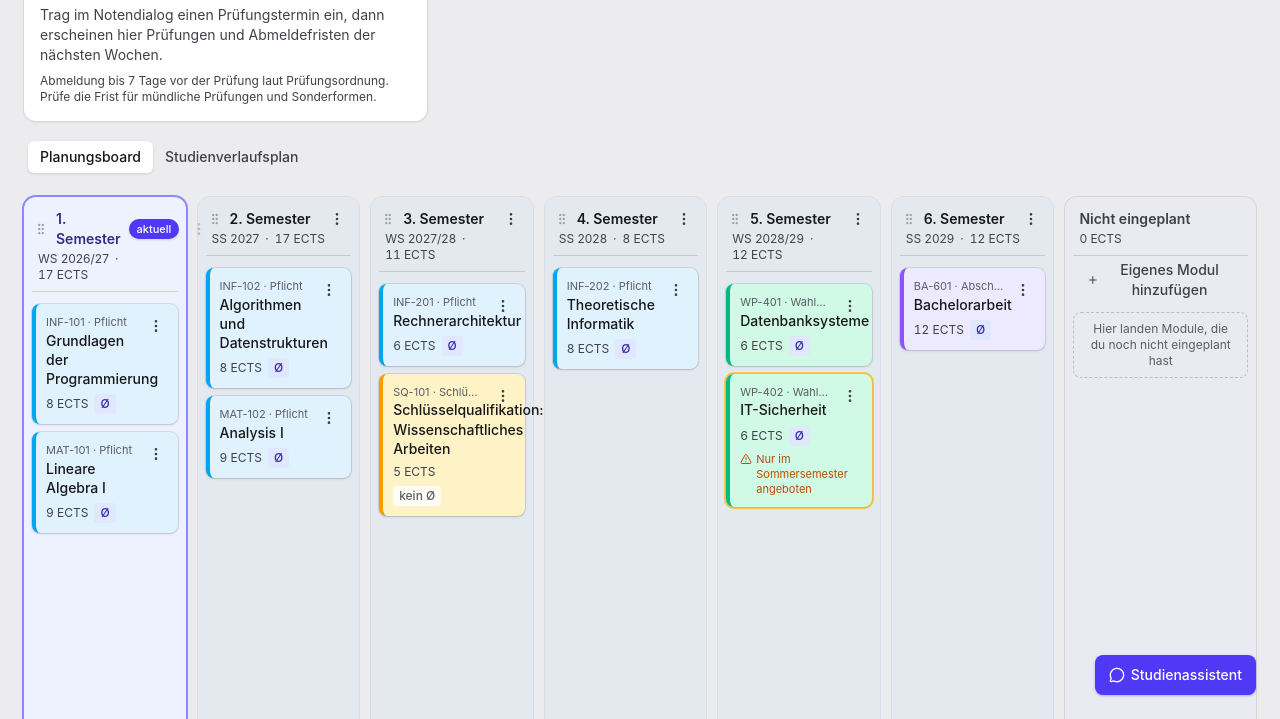
Test: clicking a module card › opens the module details
The width and height of the screenshot is (1280, 719).
(page scrolled)
Click the heading "Grundlagen der Programmierung": (85, 340) [46, 330, 136, 388]
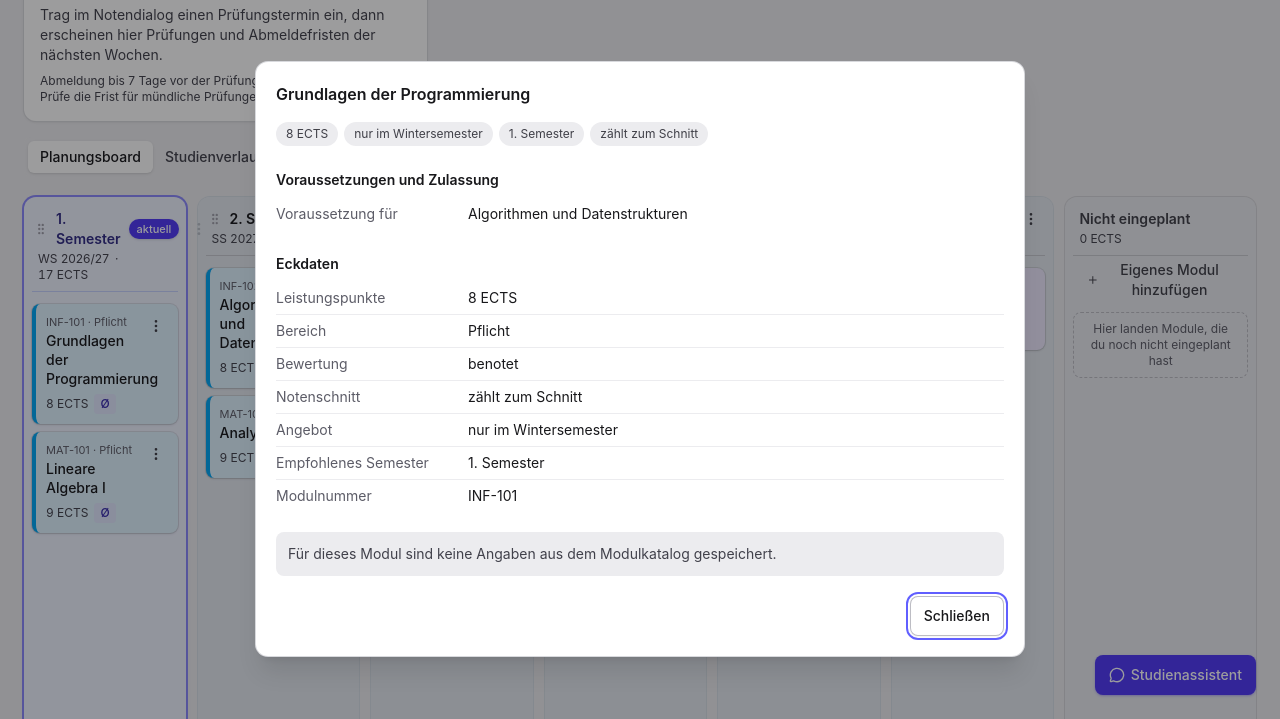
Result: the text "keine Angaben aus dem Modulkatalog gespeichert" is shown at [288, 545, 776, 562]
